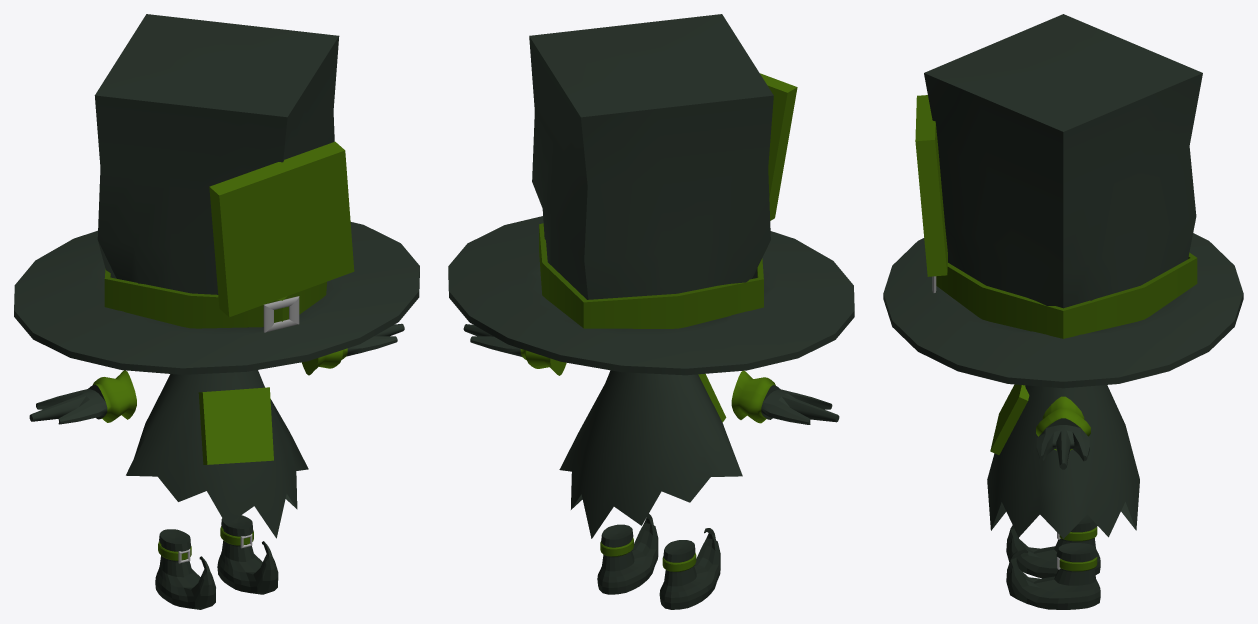
File: squ_witch_modeling.fbx
3 renders of one model, left to right at view 1: azimuth 30°, elevation 25°; view 2: azimuth 150°, elevation 25°; view 3: azimuth 270°, elevation 25°, orthographic.
Visible parts, largest first — view 1: Three_witches:cube_witch:hat, Three_witches:cube_witch:cube_hat, Three_witches:cube_witch:body, pPlane1 (×2), Three_witches:pPipe3, Three_witches:cube_witch:cube_body, Three_witches:cube_witch:r_hand, Three_witches:cube_witch:l_hand, Three_witches:pTorus1; view 2: Three_witches:cube_witch:hat, Three_witches:cube_witch:body, Three_witches:pPipe3, pPlane1 (×2), Three_witches:cube_witch:r_hand, Three_witches:cube_witch:cube_hat, Three_witches:cube_witch:l_hand; view 3: Three_witches:cube_witch:hat, Three_witches:cube_witch:body, Three_witches:pPipe3, pPlane1 (×2), Three_witches:cube_witch:cube_hat, Three_witches:cube_witch:l_hand, Three_witches:cube_witch:cube_body.
Part boxes in pixels (box(x1,y1,x2,y2)): Three_witches:cube_witch:hat: box(14, 14, 419, 374); Three_witches:cube_witch:cube_hat: box(209, 141, 354, 317); Three_witches:cube_witch:body: box(126, 370, 308, 538); pPlane1 (×2): box(155, 515, 278, 609); Three_witches:pPipe3: box(104, 269, 326, 328); Three_witches:cube_witch:cube_body: box(198, 387, 273, 464); Three_witches:cube_witch:r_hand: box(29, 370, 136, 424); Three_witches:cube_witch:l_hand: box(301, 323, 404, 375); Three_witches:pTorus1: box(263, 296, 299, 332); Three_witches:cube_witch:hat: box(448, 14, 854, 375); Three_witches:cube_witch:body: box(559, 370, 742, 538); Three_witches:pPipe3: box(539, 223, 763, 328); pPlane1 (×2): box(597, 514, 720, 609); Three_witches:cube_witch:r_hand: box(731, 370, 839, 424); Three_witches:cube_witch:cube_hat: box(760, 73, 797, 220); Three_witches:cube_witch:l_hand: box(463, 324, 566, 375); Three_witches:cube_witch:hat: box(883, 14, 1243, 388); Three_witches:cube_witch:body: box(987, 385, 1139, 538); Three_witches:pPipe3: box(936, 252, 1197, 338); pPlane1 (×2): box(1006, 514, 1100, 609); Three_witches:cube_witch:cube_hat: box(915, 95, 947, 276); Three_witches:cube_witch:l_hand: box(1036, 396, 1090, 469); Three_witches:cube_witch:cube_body: box(990, 384, 1029, 454).
Size of the model in its own units: 14.85 by 19.91 by 12.6.
